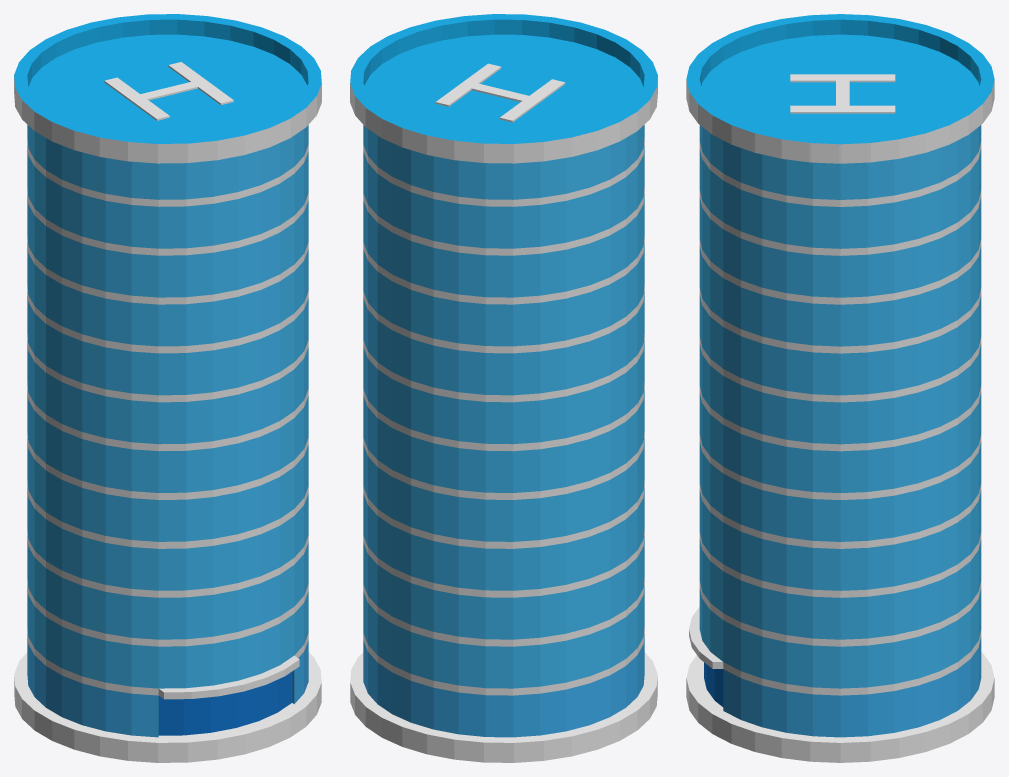
The model's file is building_2.glb.
The picture shows the model from 3 angles, left to right: view 1: azimuth 30°, elevation 25°; view 2: azimuth 150°, elevation 25°; view 3: azimuth 270°, elevation 25°; orthographic projection.
Visible parts, largest first — view 1: building_2; view 2: building_2; view 3: building_2.
Boxes of the visible parts, box(x1,y1,x2,y2) form: building_2: box(14, 14, 321, 762); building_2: box(350, 14, 657, 762); building_2: box(686, 14, 994, 762).
Bounding box in the file's own units: 2 × 4.43 × 2.
Materials: 1 (1 with a texture image).
